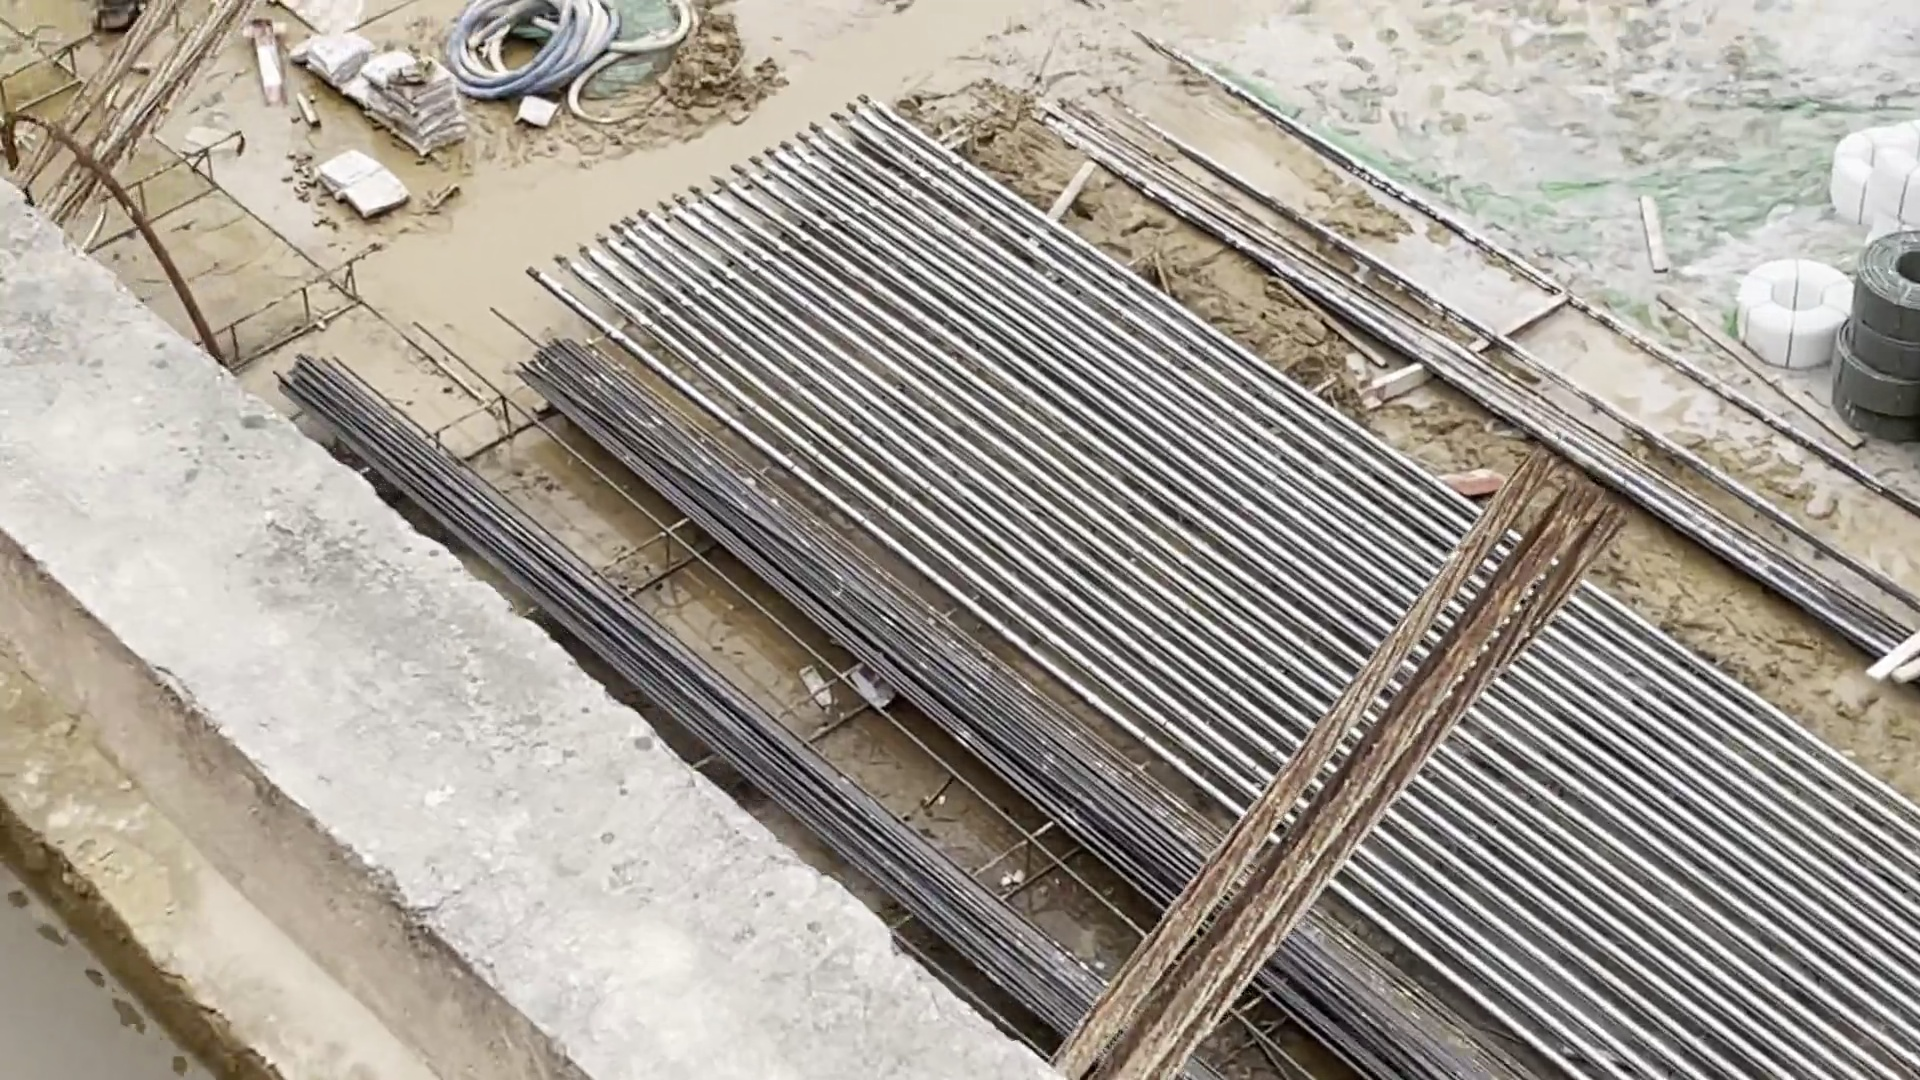rebar: (276, 332, 919, 820), (858, 680, 1501, 1073)
